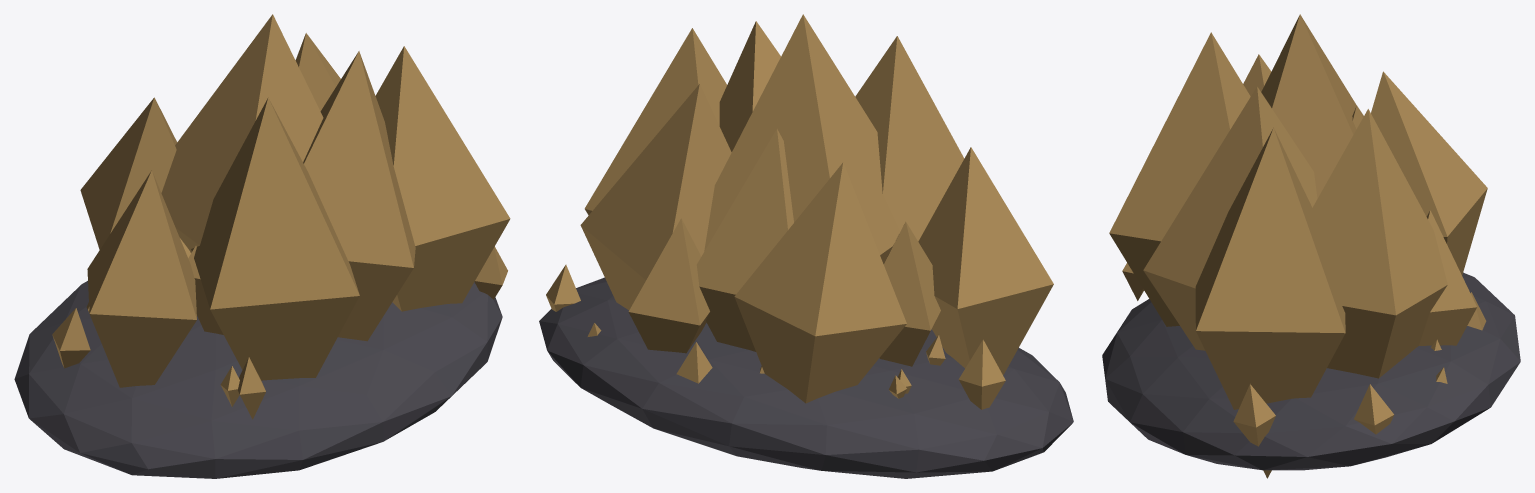
The model's file is xenotime.glb.
3 renders of one model, left to right at view 1: azimuth 30°, elevation 25°; view 2: azimuth 150°, elevation 25°; view 3: azimuth 270°, elevation 25°, orthographic. The views are drawn at different scales.
Parts seen in each view (by area): view 1: Xenotime-(Y); view 2: Xenotime-(Y); view 3: Xenotime-(Y).
Part boxes in pixels (x1,y1,x2,y2): Xenotime-(Y): (14,14,510,478); Xenotime-(Y): (539,14,1073,478); Xenotime-(Y): (1102,14,1520,478).
Size of the model in its own units: 3.96 by 3.4 by 3.03.
